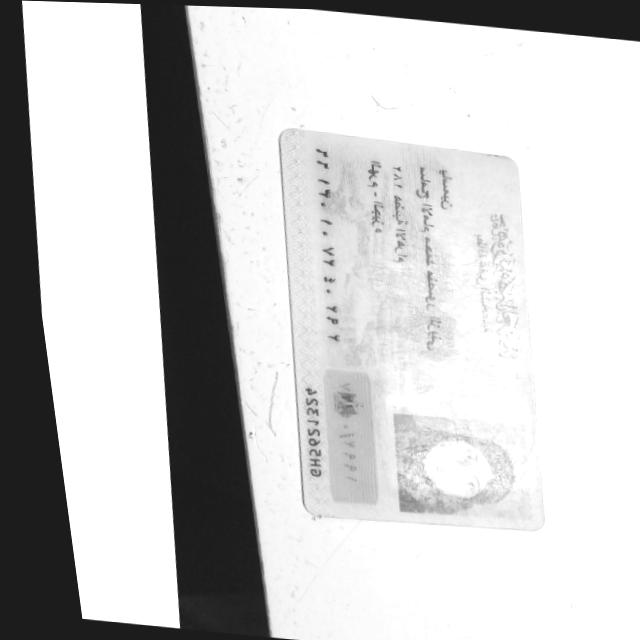front: (282, 128, 544, 530)
